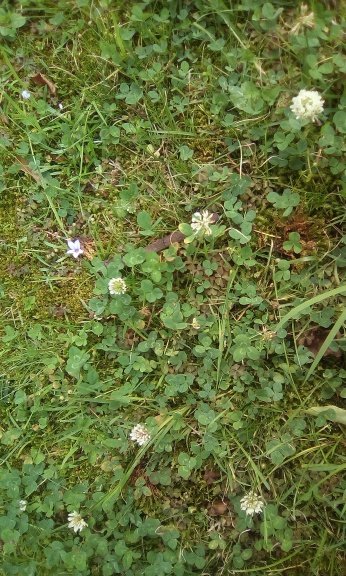4leaf: (141, 251, 169, 283)
